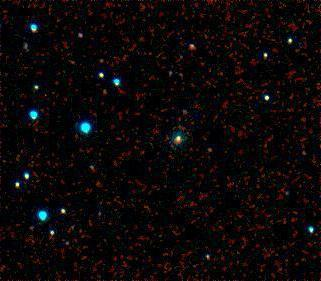star: (289, 138, 319, 168)
